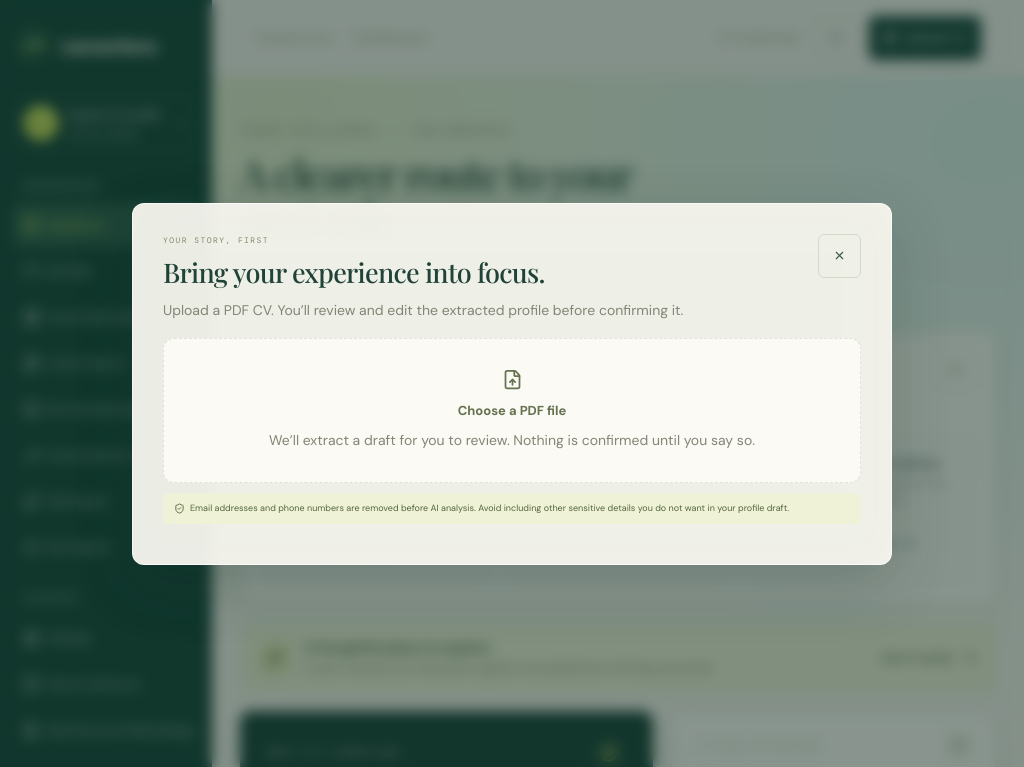
it: CareerLens welcome-page routing › opens the existing upload dialog once and removes the entry query parameter
Expected: the number of dialogs is 1, x1=132 y1=203 x2=892 y2=565
Click the button named "Close upload dialog": x=840, y=256 x1=818 y1=234 x2=861 y2=278
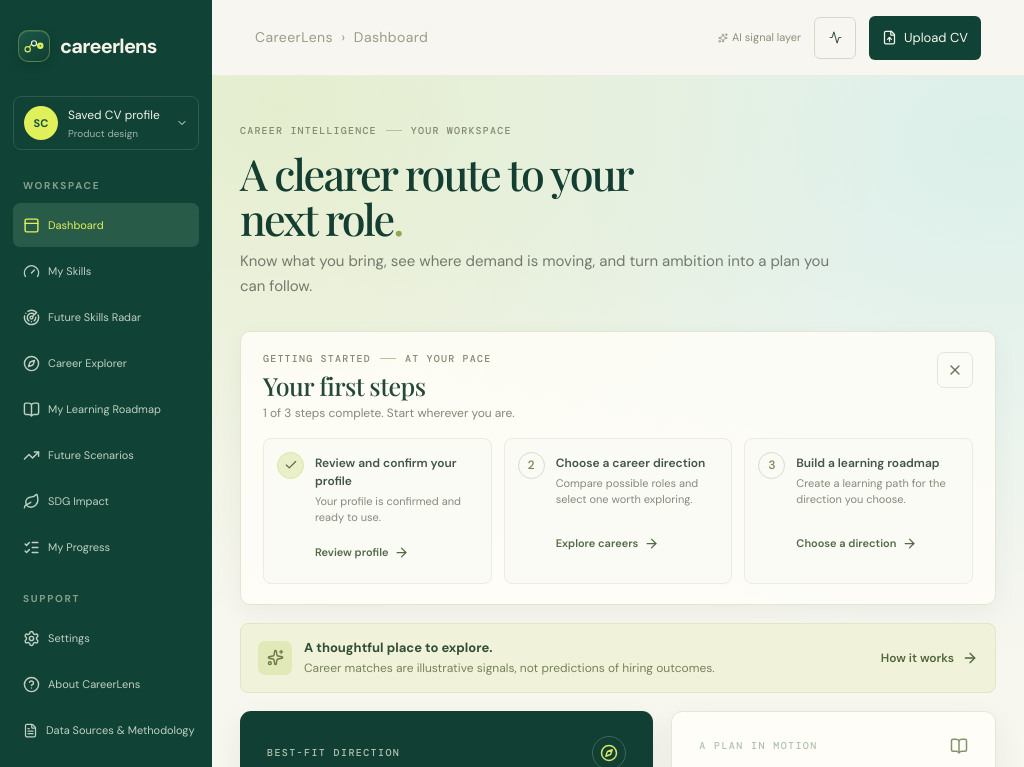
Now the dialog is gone
